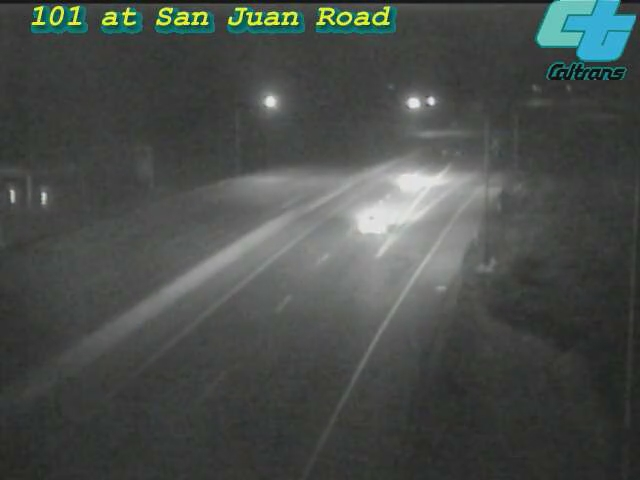vehicle: (375, 140, 455, 220), (335, 180, 415, 260)
